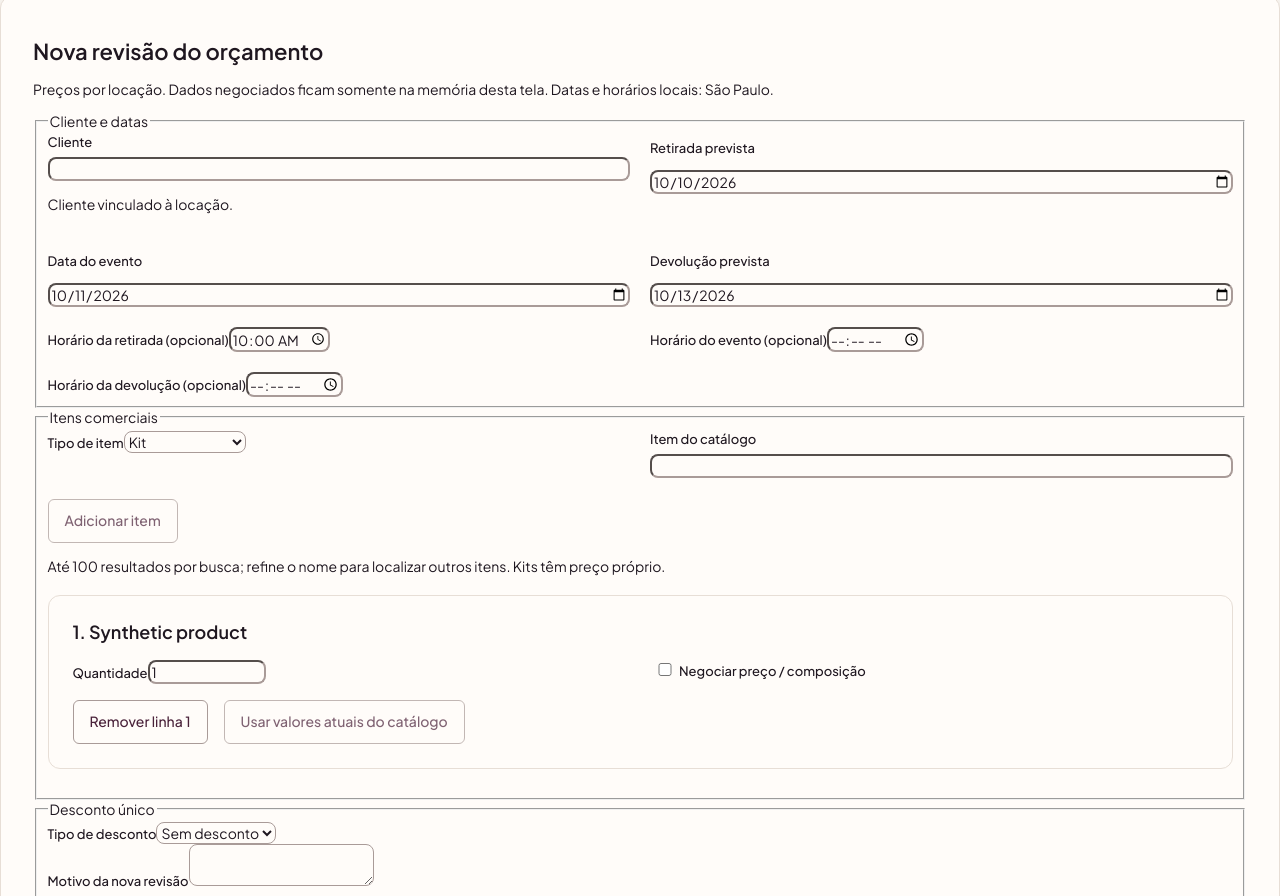
Test case: shows a required-field error, clears it after correction and only calculates the preview
This screenshot has width=1280, height=896.
In the text box labelled "Motivo da nova revisão": (281,865) [188,844,374,886], type "Revisão sintética"
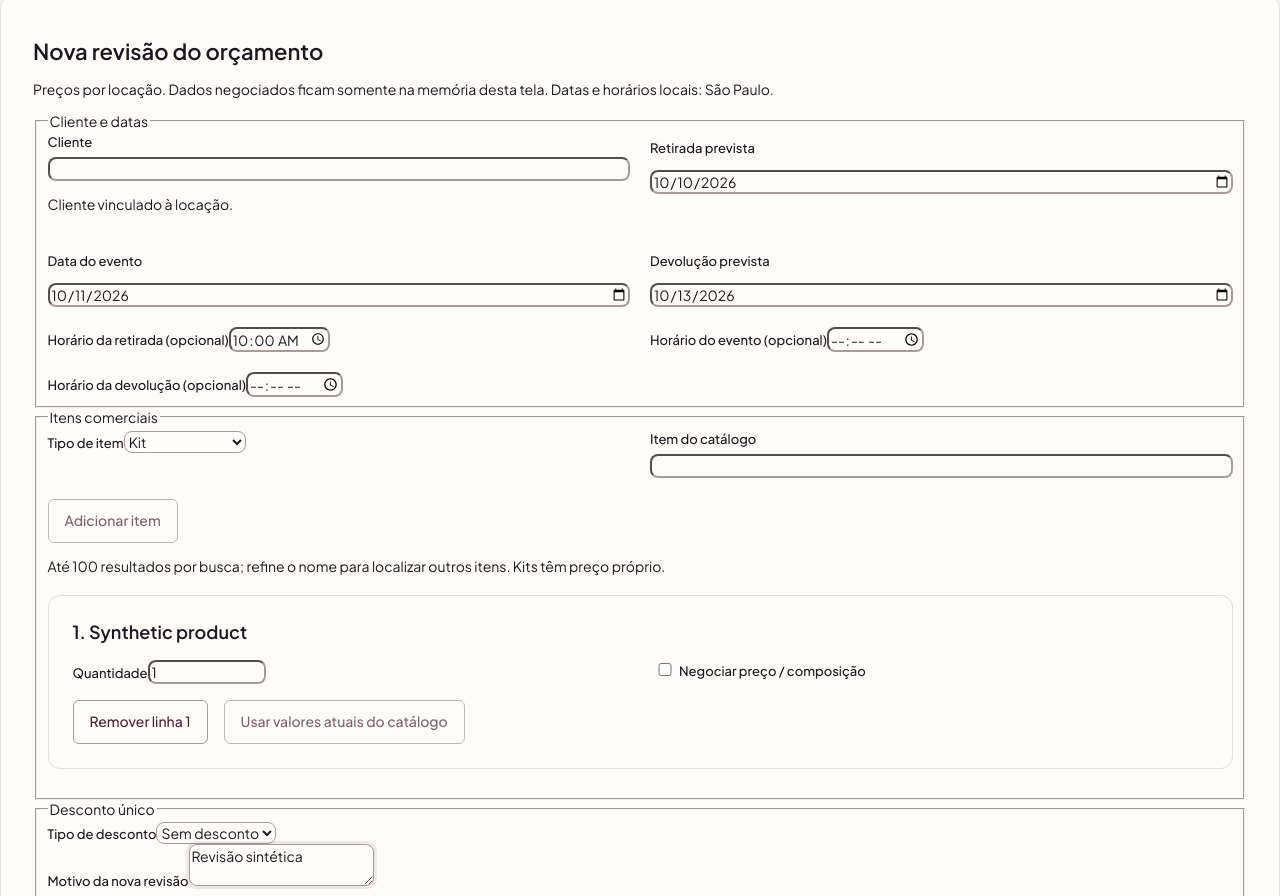
Clear the date field labelled "Retirada prevista": (941,182) [650,170,1232,194]
(page scrolled)
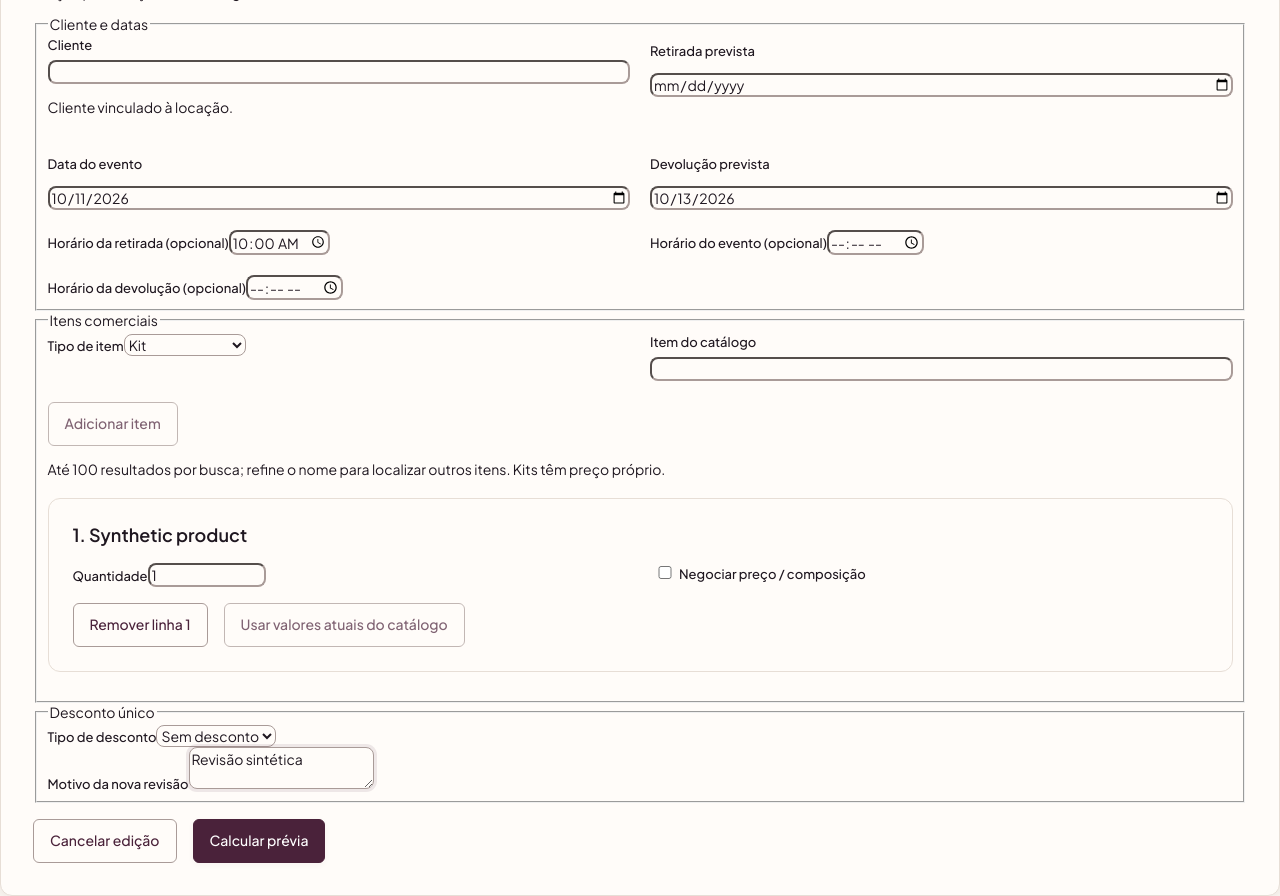
Click the button "Calcular prévia": (259,841) [192,819,326,863]
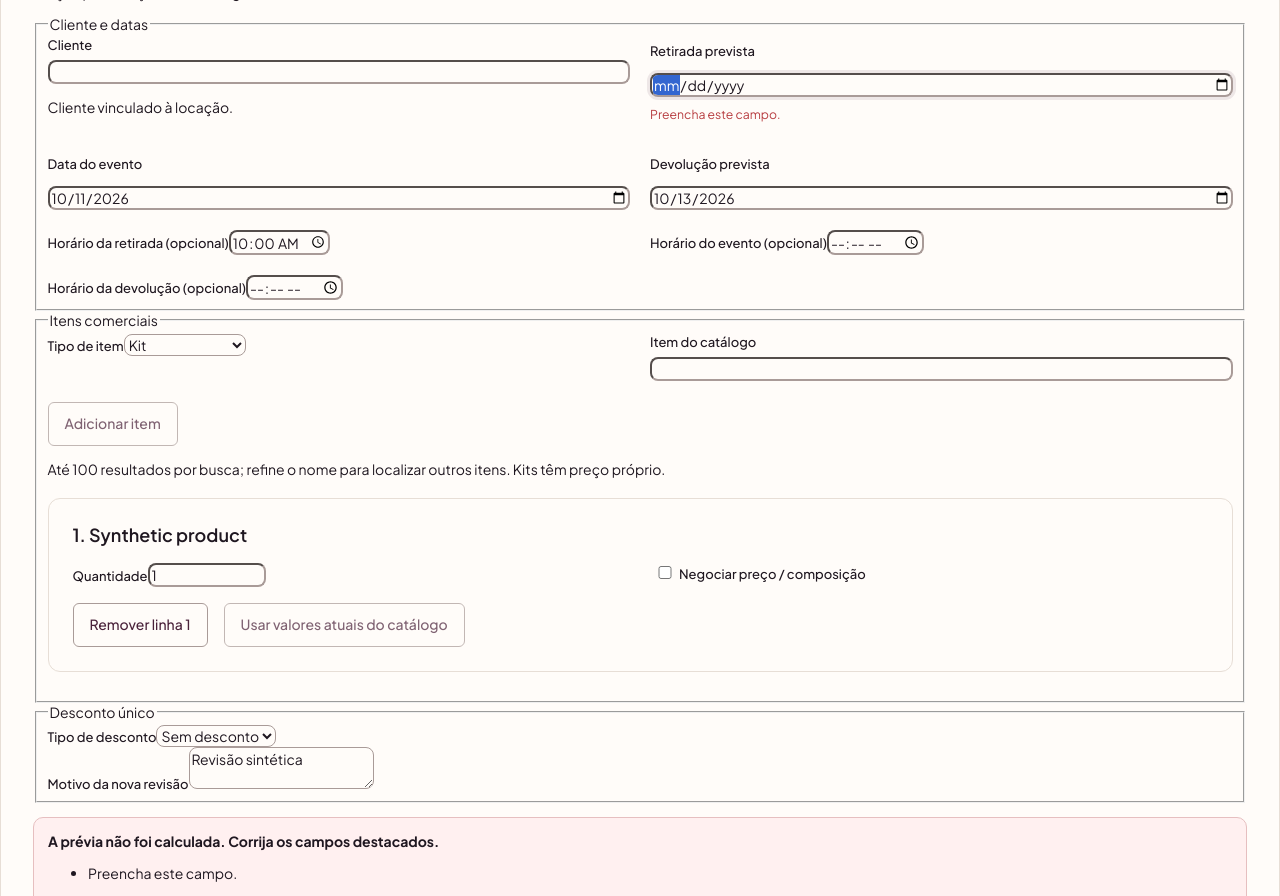
In the date field labelled "Retirada prevista": (941,86) [650,74,1232,98], type "2026-10-10"
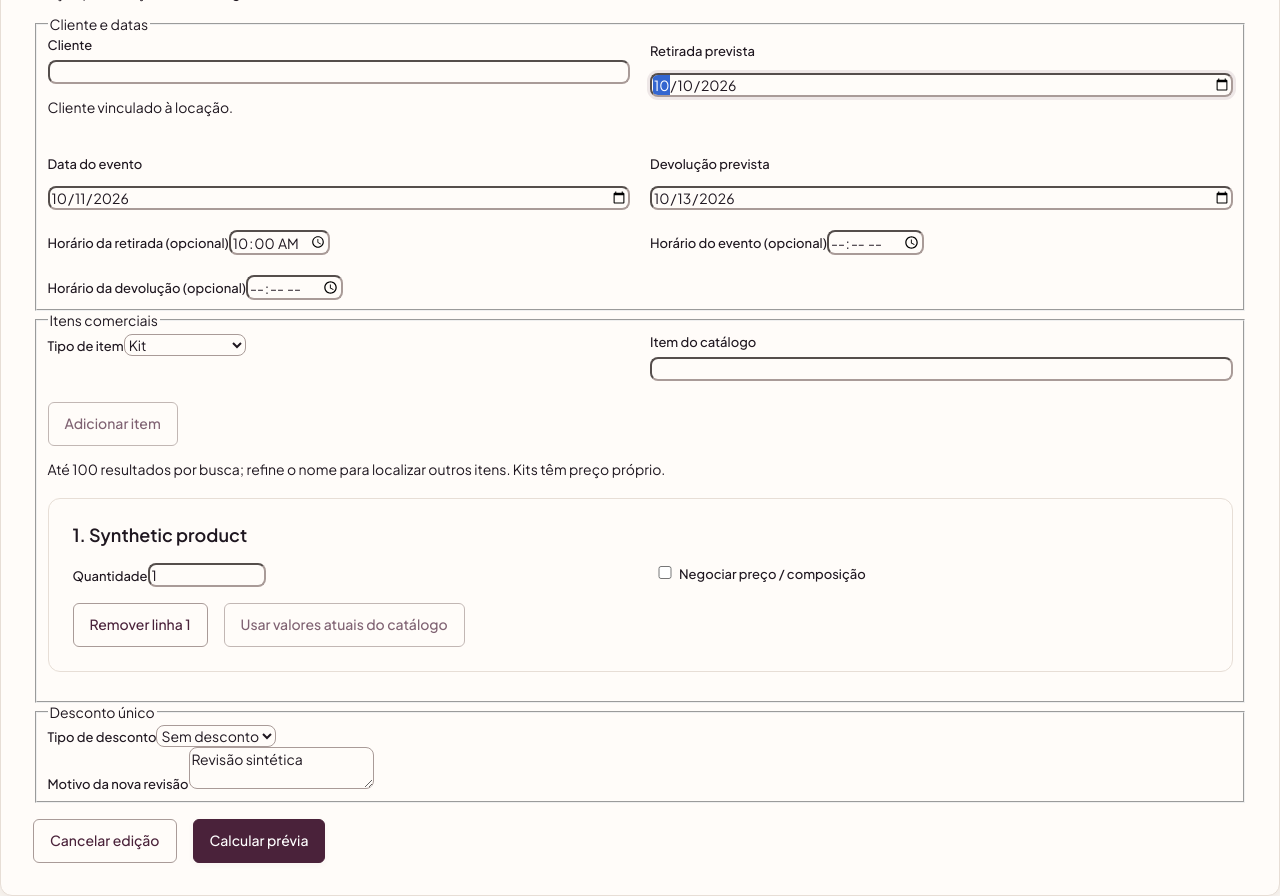
Click the button "Calcular prévia": (259,841) [192,819,326,863]
(page scrolled)
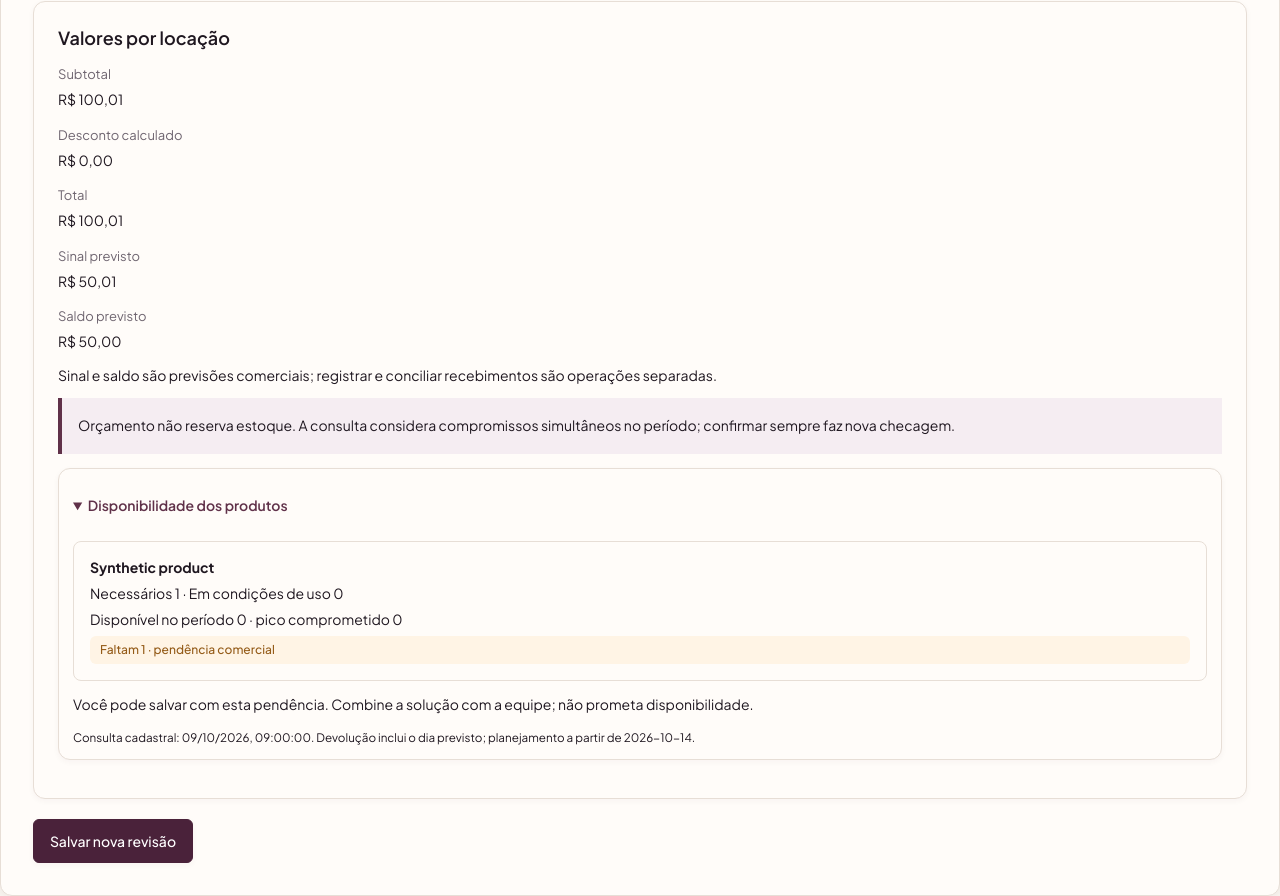
Now the button "Salvar nova revisão" is shown, box [33,819,193,863]
